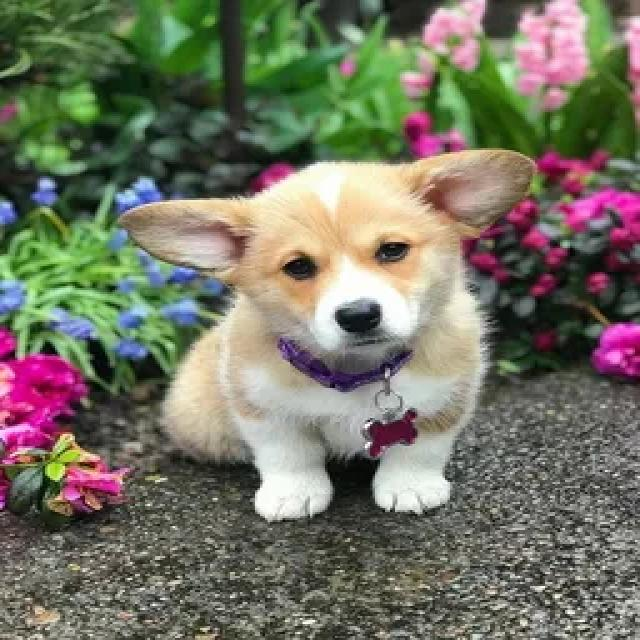Dog: (116, 144, 542, 522)
